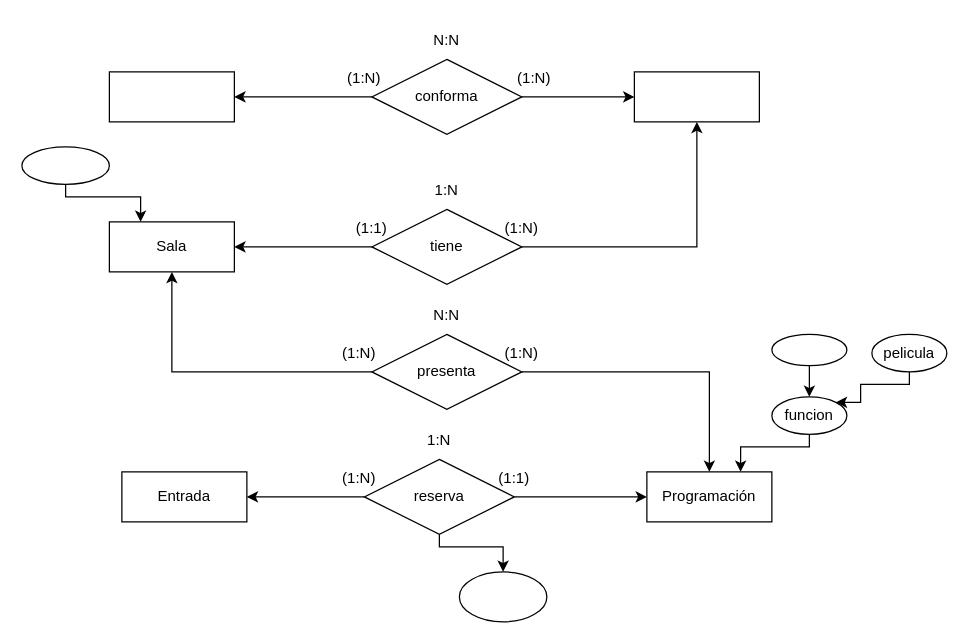
This 969x644 diagram has some shape labels left out. Each missing label, with the centre of its shape:
"capacidad" goes at point 65,165.
"Cine" goes at point 696,96.
"Complejo_cine" goes at point 171,96.
"fecha" goes at point 502,596.
"horario" goes at point 809,349.
